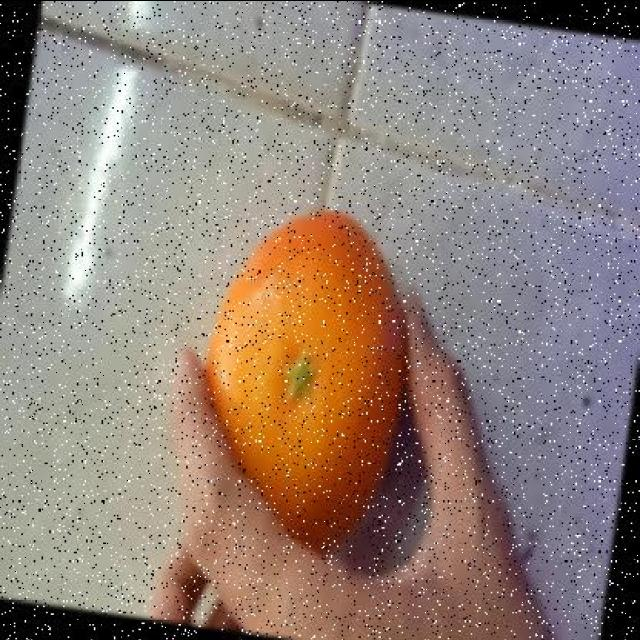Orange: (202, 208, 406, 554)
